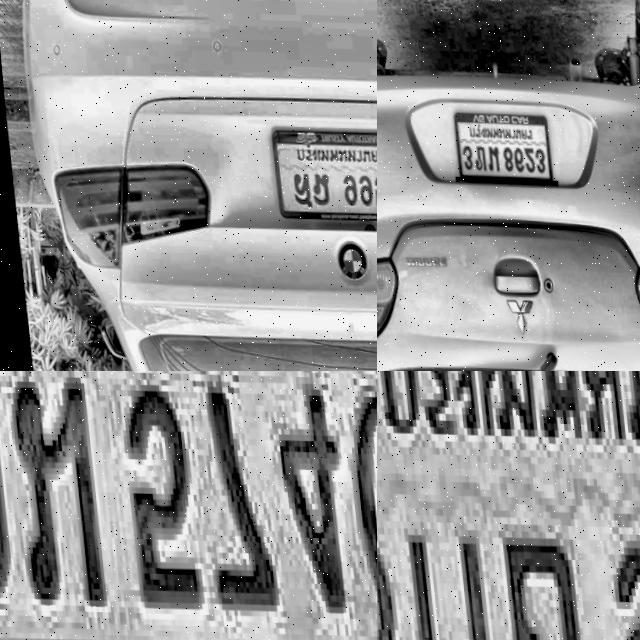license-plate: (0, 371, 377, 640), (377, 371, 640, 640), (261, 120, 377, 221), (447, 106, 549, 183)
